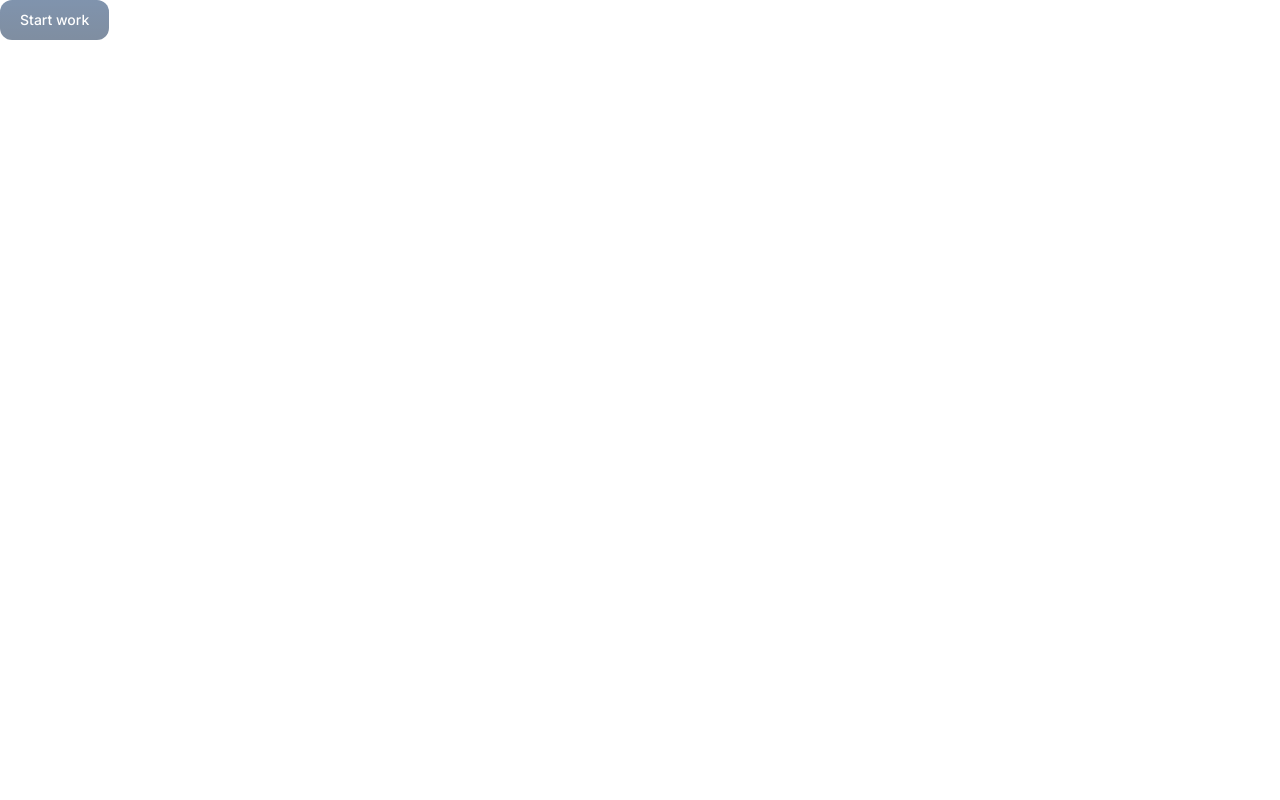
Scenario: Button with a blocked reason › tap shows the popover and never runs the action or submits the form
The width and height of the screenshot is (1280, 800).
Click the button "Start work" at x=55, y=20, box [0,0,109,40]
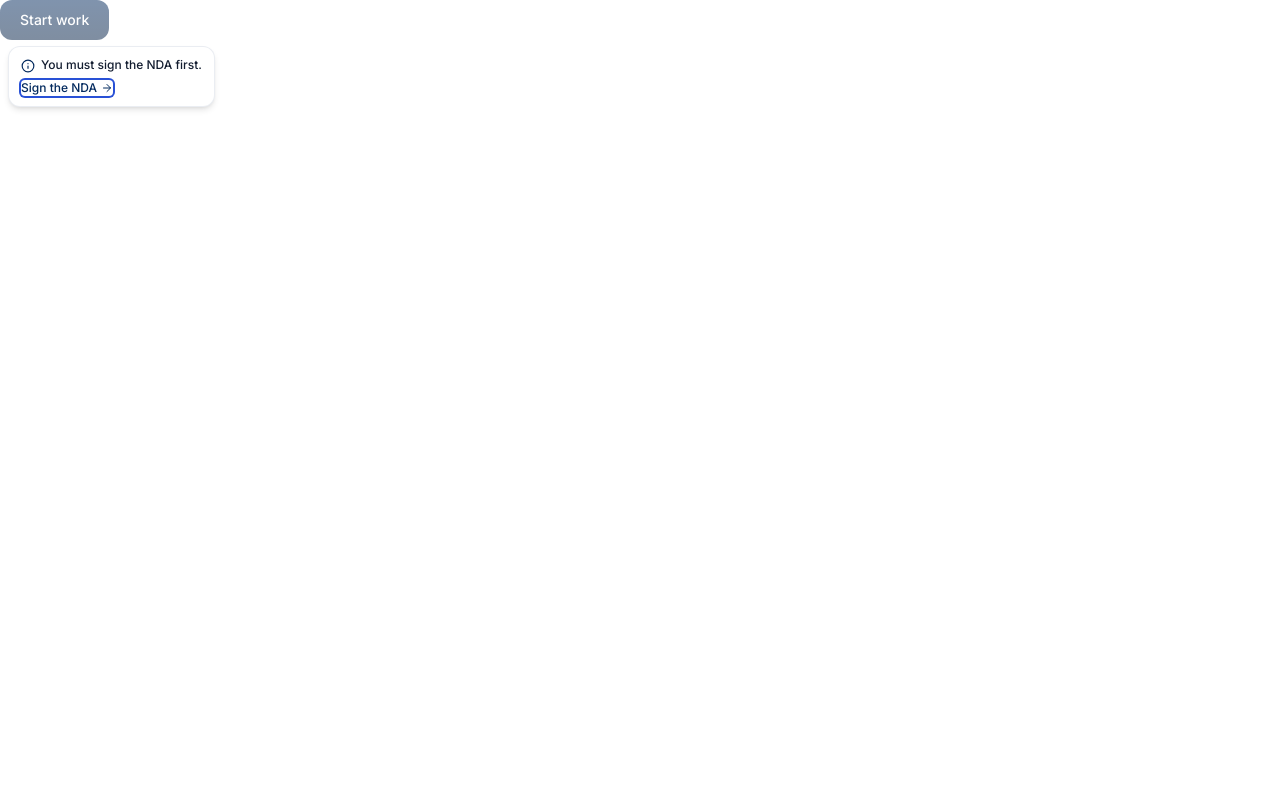
Expected: the dialog with test id "blocked-popover" shows "You must sign the NDA first.", [41,57,202,72]
Expected: the link with test id "blocked-next-step" reads "Sign the NDA", [21,80,113,96]
